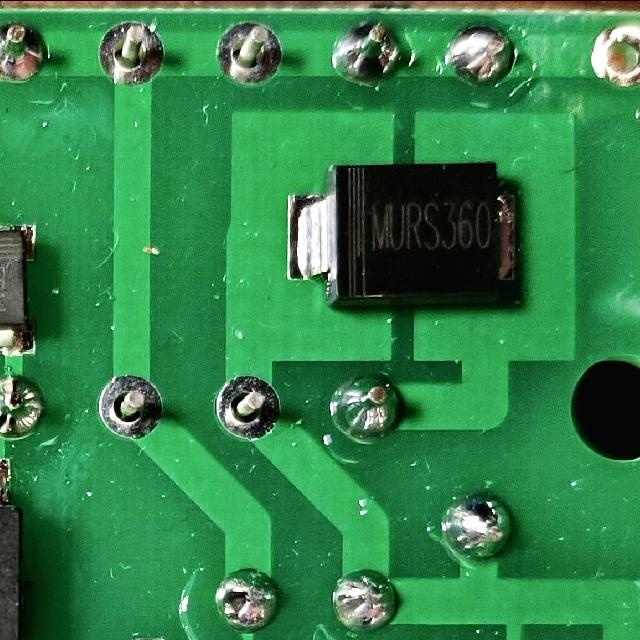diode: (279, 155, 525, 317)
